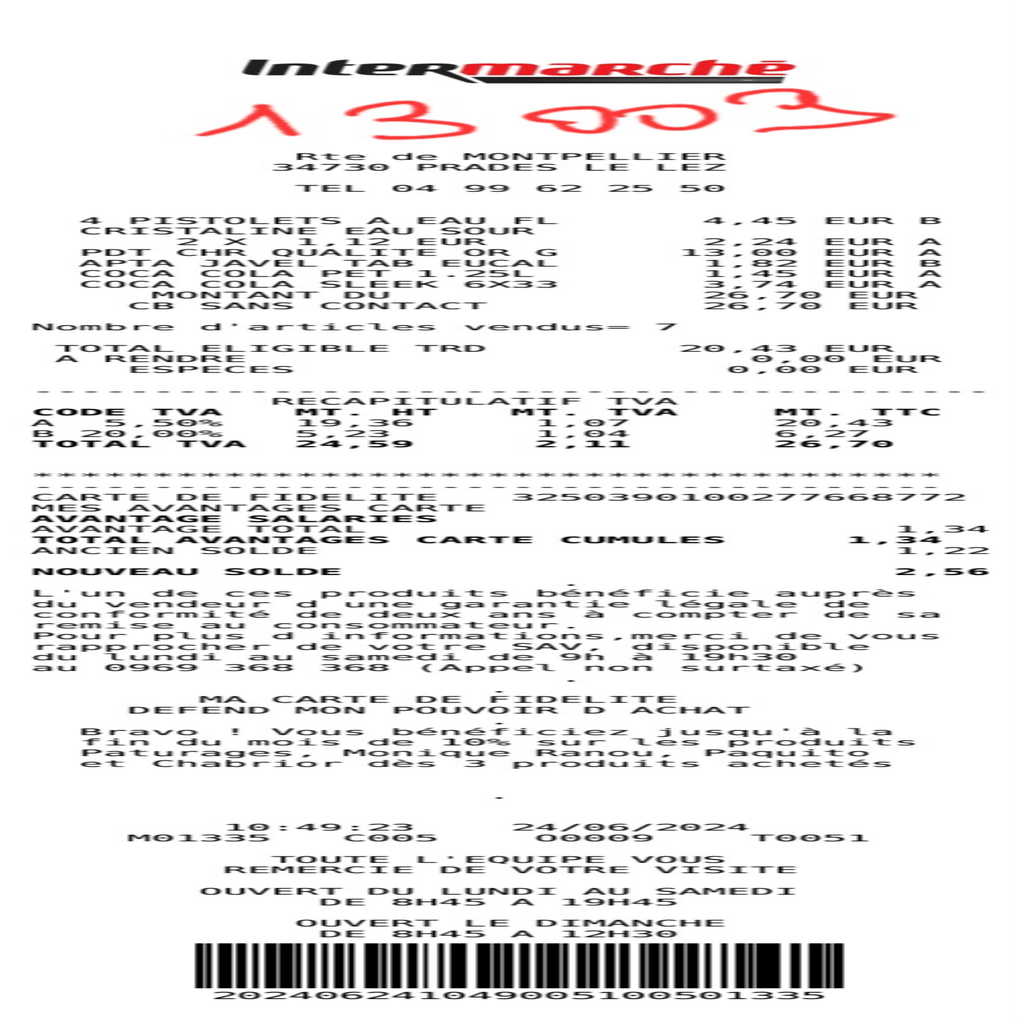recipt: (2, 0, 1024, 1022)
